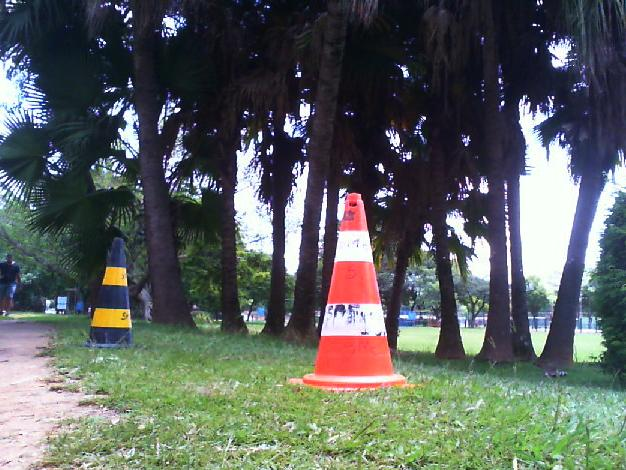0 cone: (287, 193, 422, 390), (85, 237, 143, 349)
